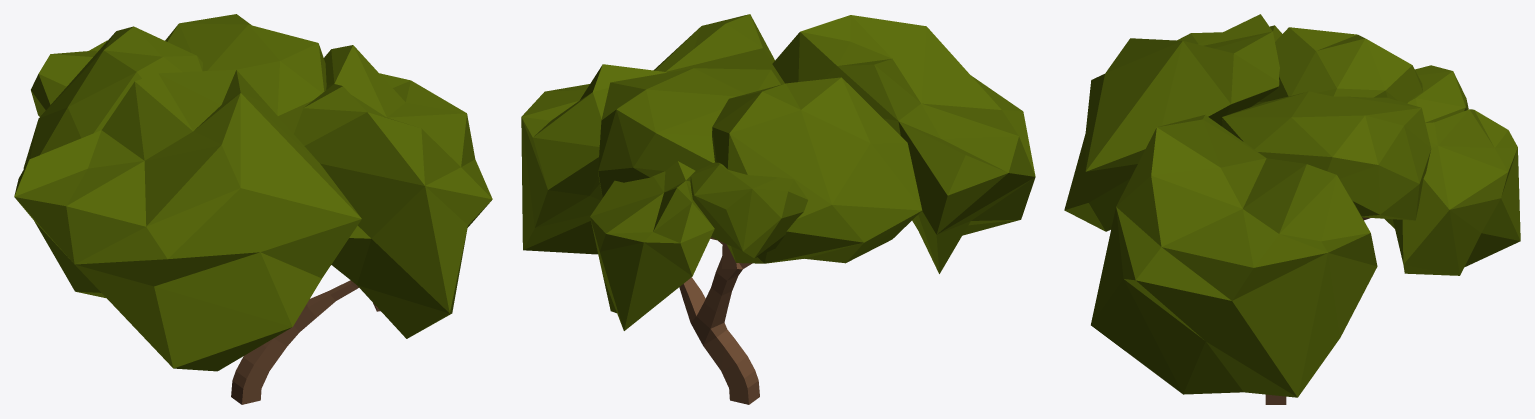
The model's file is mesh_bush_01.fbx.
3 views of the same model, side by side, from view 1: azimuth 30°, elevation 25°; view 2: azimuth 150°, elevation 25°; view 3: azimuth 270°, elevation 25° (orthographic). The views are drawn at different scales.
Visible parts, largest first — view 1: mesh_bush_01; view 2: mesh_bush_01; view 3: mesh_bush_01.
Boxes of the visible parts, left/top/right/bottom form: mesh_bush_01: left=14, top=14, right=492, bottom=404; mesh_bush_01: left=521, top=14, right=1035, bottom=404; mesh_bush_01: left=1064, top=14, right=1520, bottom=404.
Bounding box in the file's own units: 147 × 110 × 136.
